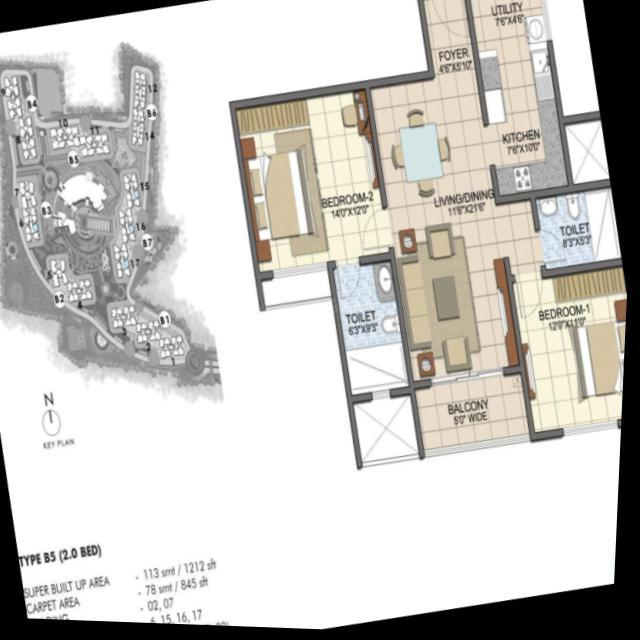Balcony-Sitout: (420, 373, 534, 456)
Bedroom: (238, 92, 394, 275), (518, 269, 630, 431)
Enterance-Foyer: (419, 0, 481, 79)
Kitchen: (467, 0, 574, 196)
Living: (391, 211, 533, 389)
Toilet: (337, 257, 413, 399), (537, 186, 625, 268)
